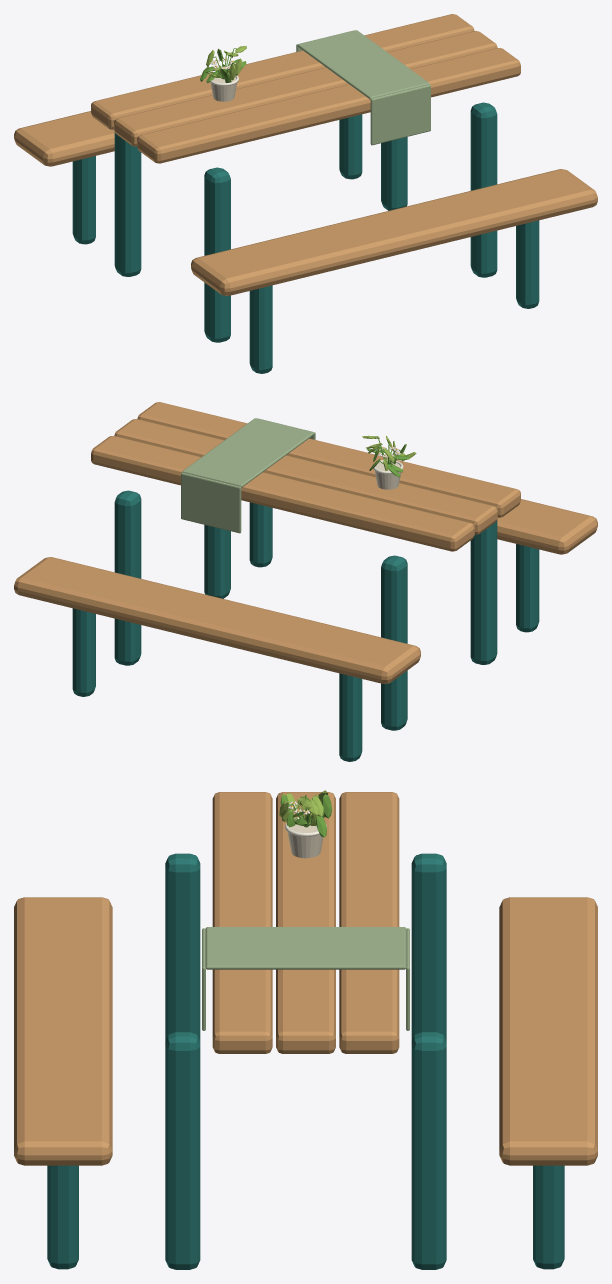
The model's file is picnic-table.glb.
3 views of the same model, one above another, from view 1: azimuth 30°, elevation 25°; view 2: azimuth 150°, elevation 25°; view 3: azimuth 270°, elevation 25° (orthographic). The views are drawn at different scales.
Visible parts, largest first — view 1: picnic_table_batched; view 2: picnic_table_batched; view 3: picnic_table_batched.
Boxes of the visible parts, x1,y1,x2,y2 form: picnic_table_batched: (14, 14, 597, 373); picnic_table_batched: (14, 402, 597, 761); picnic_table_batched: (14, 790, 597, 1269).
Bounding box in the file's own units: 1.7 × 1.05 × 1.66.
